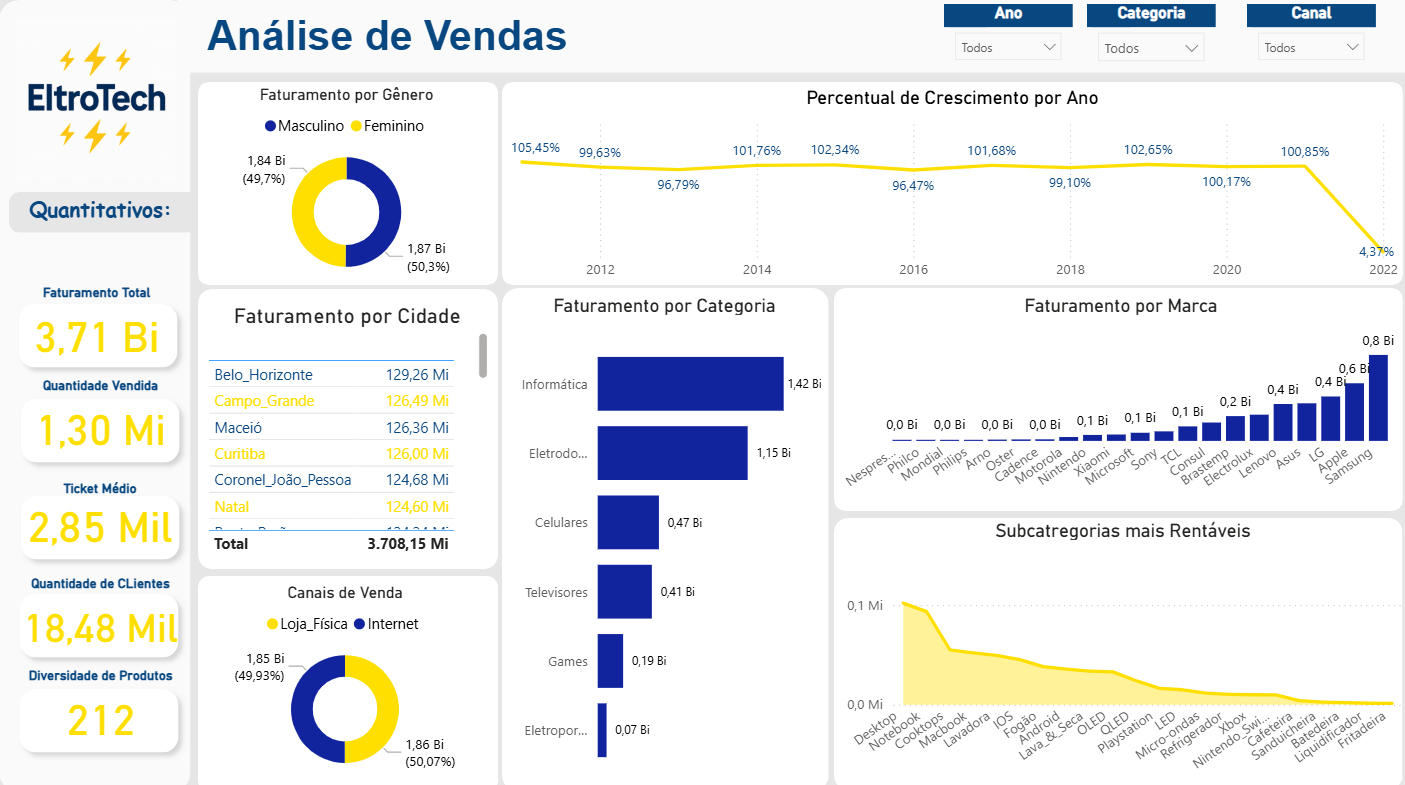

Layout of this report page (visuals, bound fields, positions):
{"tool":"powerbi","page":{"name":"Página 1","canvas":[1280,720],"ordinal":0},"visuals":[{"type":"shape","box":[0,0,174.2,720.2],"z":5000},{"type":"shape","box":[9.5,174.2,208.7,37.1],"z":6000},{"type":"textbox","box":[0,170.8,184.6,44],"z":7000},{"type":"image","box":[4.5,12.7,167.3,154.5],"z":8000},{"type":"shape","box":[161.8,0,1118.2,66.4],"z":9000},{"type":"textbox","box":[177.3,6.4,351.8,55.5],"z":10000},{"type":"slicer","title":"Ano","fields":{"Values":["loja vendas_2010_2021.data_venda.Variation.Hierarquia de datas.Ano"]},"box":[859.1,3.5,117.3,63],"z":11000},{"type":"slicer","title":"Categoria","fields":{"Values":["loja categoria.categoria"]},"box":[989.3,3.5,117.3,57.8],"z":12000},{"type":"slicer","title":"Canal","fields":{"Values":["loja canal.descricao_canal"]},"box":[1134.2,3.5,117.3,56.9],"z":13000},{"type":"shape","box":[9.1,267,162.2,75.9],"z":14000},{"type":"shape","box":[11.2,353.6,162.2,75.9],"z":15000},{"type":"shape","box":[11.2,441.6,162.2,75.9],"z":16000},{"type":"shape","box":[10.4,531.3,162.2,75.9],"z":17000},{"type":"shape","box":[10.4,617.6,162.2,75.9],"z":18000},{"type":"card","title":"Faturamento Total","fields":{"Values":["Sum(loja vendas_2010_2021.valor_total)"]},"box":[0,258.8,177.7,78.5],"z":19000},{"type":"card","title":"Quantidade Vendida","fields":{"Values":["Sum(loja vendas_2010_2021.qtde)"]},"box":[3.6,343.6,177.3,79.1],"z":20000},{"type":"card","title":"Ticket Médio","fields":{"Values":["loja vendas_2010_2021.Ticket Medio"]},"box":[7.7,437.7,169.2,67.7],"z":21000},{"type":"card","title":"Quantidade de CLientes","fields":{"Values":["CountNonNull(loja clientes.id_cliente)"]},"box":[3.6,523.6,177.3,80],"z":22000},{"type":"card","title":"Diversidade de Produtos","fields":{"Values":["Count(loja produto.id_produto)"]},"box":[3.5,607.2,177.7,78.5],"z":23000},{"type":"shape","box":[180.7,523.6,272.9,196.4],"z":25001},{"type":"donutChart","title":"Canais de Venda","fields":{"Category":["loja canal.descricao_canal"],"Y":["Sum(loja vendas_2010_2021.valor_total)"]},"box":[184.5,530.9,260,182.7],"z":25002},{"type":"shape","box":[180.9,262.7,272.7,254.5],"z":25003},{"type":"tableEx","title":"Faturamento por Cidade","fields":{"Values":["loja cidade.cidade","loja vendas_2010_2021.Soma_Valor"]},"box":[184.5,275.5,264.5,235.5],"z":25004},{"type":"shape","box":[180.9,74.5,272.7,184.5],"z":25005},{"type":"donutChart","title":"Faturamento por Gênero","fields":{"Category":["loja clientes.gênero"],"Y":["Sum(loja vendas_2010_2021.valor_total)"]},"box":[182.7,78.2,266.4,184.5],"z":25006},{"type":"shape","box":[457.3,74.5,819.1,184.5],"z":25007},{"type":"lineChart","fields":{"Category":["loja vendas_2010_2021.data_entrega.Variation.Hierarquia de datas.Ano"],"Y":["loja vendas_2010_2021.Percentual de Crescimento"]},"box":[457.3,78.2,819.1,184.5],"z":25008},{"type":"shape","box":[457.1,262.1,297.1,457.9],"z":25009},{"type":"clusteredBarChart","title":"Faturamento por Categoria","fields":{"Category":["loja categoria.categoria"],"Y":["loja vendas_2010_2021.Soma_Valor"]},"box":[457.3,267.3,295.5,452.7],"z":25010},{"type":"shape","box":[759.3,262,517.3,202.7],"z":25011},{"type":"clusteredColumnChart","title":"Faturamento por Marca","fields":{"Category":["loja marca.marca"],"Y":["loja vendas_2010_2021.Soma_Valor"]},"box":[763.6,267.3,512.7,194.5],"z":25012},{"type":"shape","box":[759.4,471.2,516.9,246.9],"z":25013},{"type":"areaChart","title":"Subcatregorias mais Rentáveis","fields":{"Category":["loja subcategoria.subcategoria"],"Y":["Sum(loja produto.preco_unitario)"]},"box":[763.6,471.8,516.4,241.8],"z":25014}]}

Visuals, with their boxes in screenshot pixels (x1, y1, x2, y2), scaled from the page's 1280x720 canvas onto the 1405x785 screenshot:
shape: x1=0, y1=0, x2=191, y2=784
shape: x1=10, y1=190, x2=240, y2=230
textbox: x1=0, y1=186, x2=203, y2=234
image: x1=5, y1=14, x2=189, y2=182
shape: x1=178, y1=0, x2=1404, y2=72
textbox: x1=195, y1=7, x2=581, y2=67
"Ano" slicer: x1=943, y1=4, x2=1072, y2=73
"Categoria" slicer: x1=1086, y1=4, x2=1215, y2=67
"Canal" slicer: x1=1245, y1=4, x2=1374, y2=66
shape: x1=10, y1=291, x2=188, y2=374
shape: x1=12, y1=386, x2=190, y2=468
shape: x1=12, y1=481, x2=190, y2=564
shape: x1=11, y1=579, x2=189, y2=662
shape: x1=11, y1=673, x2=189, y2=756
"Faturamento Total" card: x1=0, y1=282, x2=195, y2=368
"Quantidade Vendida" card: x1=4, y1=375, x2=199, y2=461
"Ticket Médio" card: x1=8, y1=477, x2=194, y2=551
"Quantidade de CLientes" card: x1=4, y1=571, x2=199, y2=658
"Diversidade de Produtos" card: x1=4, y1=662, x2=199, y2=748
shape: x1=198, y1=571, x2=498, y2=784
"Canais de Venda" donutChart: x1=203, y1=579, x2=488, y2=778
shape: x1=199, y1=286, x2=498, y2=564
"Faturamento por Cidade" tableEx: x1=203, y1=300, x2=493, y2=557
shape: x1=199, y1=81, x2=498, y2=282
"Faturamento por Gênero" donutChart: x1=201, y1=85, x2=493, y2=286
shape: x1=502, y1=81, x2=1401, y2=282
lineChart - loja vendas_2010_2021.data_entrega.Variation.Hierarquia de datas.Ano x loja vendas_2010_2021.Percentual de Crescimento: x1=502, y1=85, x2=1401, y2=286
shape: x1=502, y1=286, x2=828, y2=784
"Faturamento por Categoria" clusteredBarChart: x1=502, y1=291, x2=826, y2=784
shape: x1=833, y1=286, x2=1401, y2=507
"Faturamento por Marca" clusteredColumnChart: x1=838, y1=291, x2=1401, y2=503
shape: x1=834, y1=514, x2=1401, y2=783
"Subcatregorias mais Rentáveis" areaChart: x1=838, y1=514, x2=1404, y2=778
